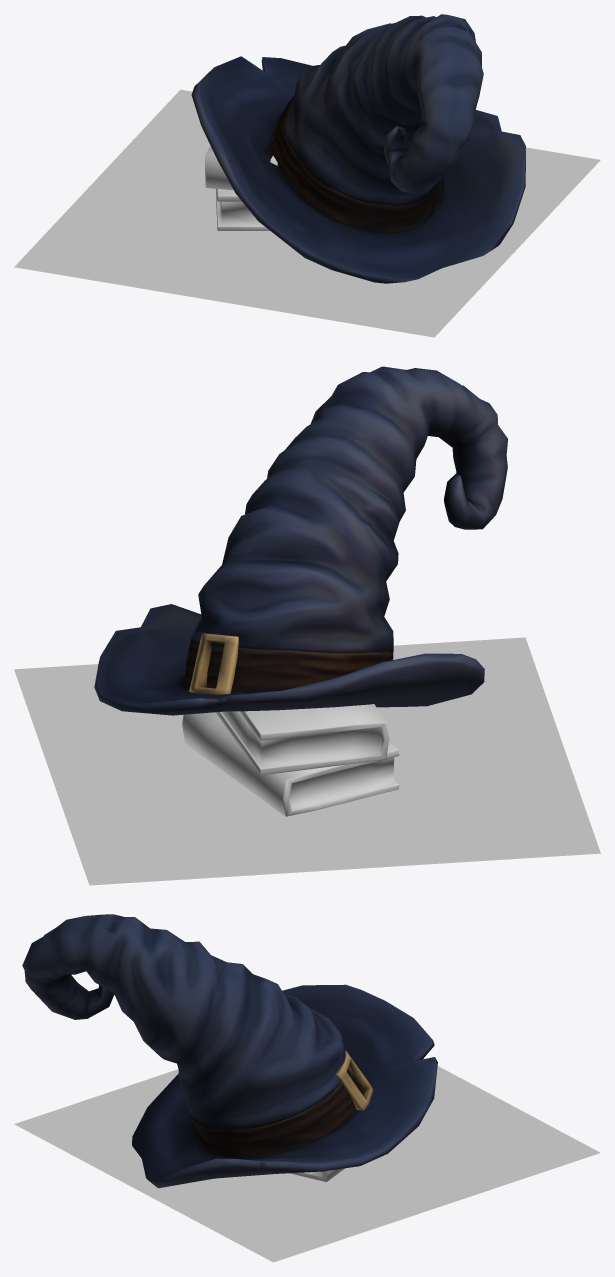
3 renders of one model, top to bottom at view 1: azimuth 30°, elevation 25°; view 2: azimuth 150°, elevation 25°; view 3: azimuth 270°, elevation 25°, orthographic. The views are drawn at different scales.
Parts seen in each view (by area): view 1: Hat, Ground, Book1, Book2; view 2: Hat, Ground, Book2, Book1; view 3: Hat, Ground.
Part boxes in pixels (<box>): Hat: <box>191,14,525,283</box>; Ground: <box>14,89,600,337</box>; Book1: <box>216,189,269,230</box>; Book2: <box>205,146,277,189</box>; Hat: <box>94,366,507,715</box>; Ground: <box>14,637,600,885</box>; Book2: <box>215,704,389,775</box>; Book1: <box>182,712,399,816</box>; Hat: <box>22,914,437,1188</box>; Ground: <box>14,1058,600,1262</box>.
Bounding box in the file's own units: 8.62 × 4.02 × 8.62.
